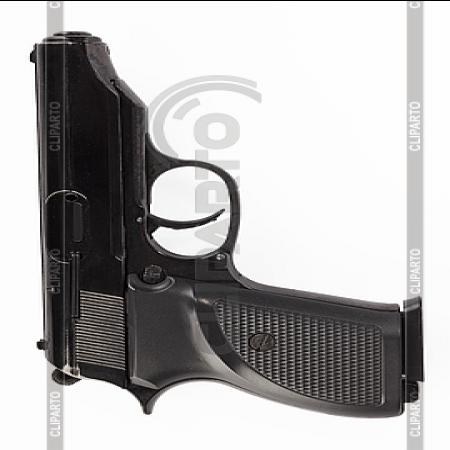Pistol: (26, 32, 420, 425)
